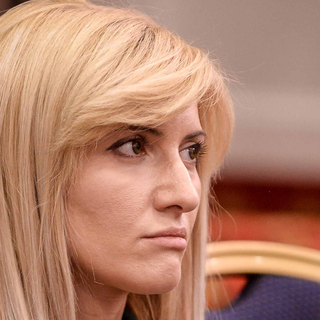eye: (103, 133, 152, 164), (169, 135, 207, 168)
